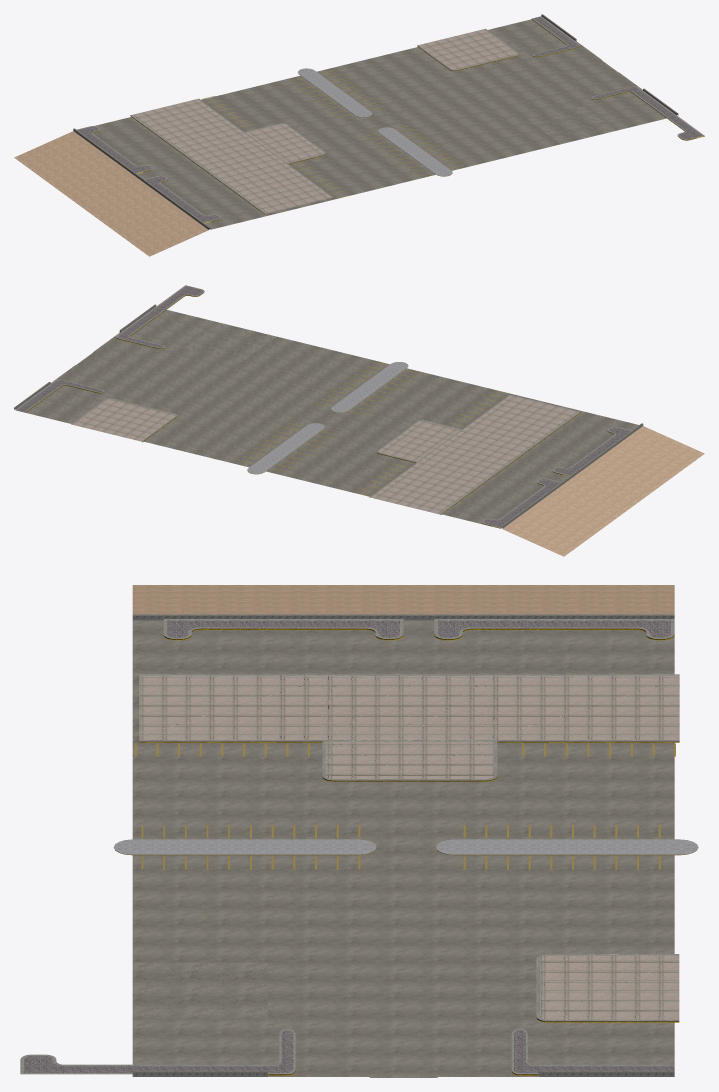
Rendered from vgseedge06.obj.
3 views of the same model, one above another, from view 1: azimuth 30°, elevation 25°; view 2: azimuth 150°, elevation 25°; view 3: azimuth 270°, elevation 25° (orthographic). The views are drawn at different scales.
Parts seen in each view (by area): view 1: vgsEedge06; view 2: vgsEedge06; view 3: vgsEedge06.
Part boxes in pixels (bbox=[...]): vgsEedge06: bbox=[14, 14, 704, 256]; vgsEedge06: bbox=[14, 285, 704, 556]; vgsEedge06: bbox=[20, 585, 698, 1077].
Bounding box in the file's own units: 180 × 4.69 × 100.
Materials: 9 (9 with a texture image).
